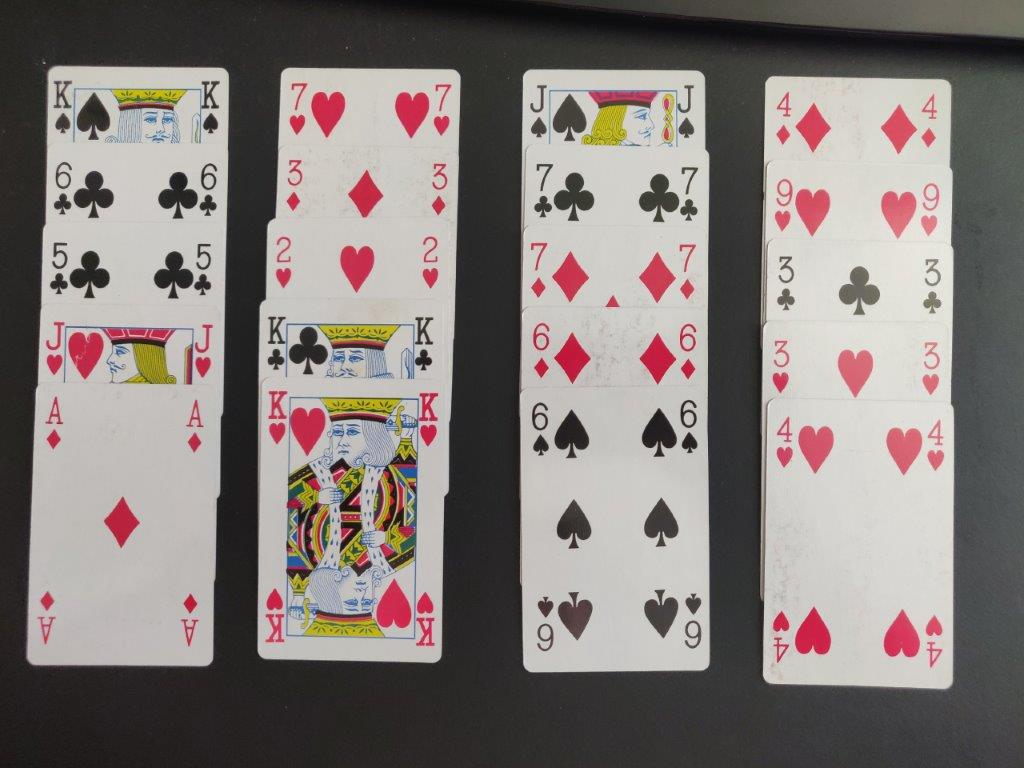2H: (415, 228, 446, 297), (272, 230, 298, 295)
3C: (768, 251, 800, 318), (919, 253, 946, 318)
3D: (281, 154, 310, 219), (427, 157, 451, 222)
3H: (918, 336, 946, 403), (766, 331, 794, 397)
4D: (770, 84, 798, 153), (916, 90, 942, 153)
4H: (923, 414, 948, 479), (772, 407, 797, 469)
5C: (192, 239, 218, 303), (46, 237, 72, 298)
6C: (49, 156, 77, 222), (197, 158, 221, 222)
6D: (526, 317, 555, 384), (673, 319, 702, 385)
6S: (673, 394, 704, 458), (527, 394, 554, 463)
7C: (528, 157, 558, 221), (674, 160, 702, 224)
7D: (673, 238, 699, 305), (527, 237, 550, 303)
7H: (284, 76, 311, 137), (430, 79, 456, 138)
9H: (917, 178, 945, 245), (770, 172, 797, 241)
AD: (40, 387, 69, 455), (182, 395, 208, 456)
JH: (188, 318, 219, 381), (41, 315, 70, 378)
JS: (526, 78, 555, 145), (674, 79, 700, 145)
KC: (409, 310, 440, 376), (261, 307, 290, 375)
KH: (262, 384, 292, 453), (415, 388, 441, 450)
KS: (45, 74, 79, 138), (196, 74, 226, 139)
